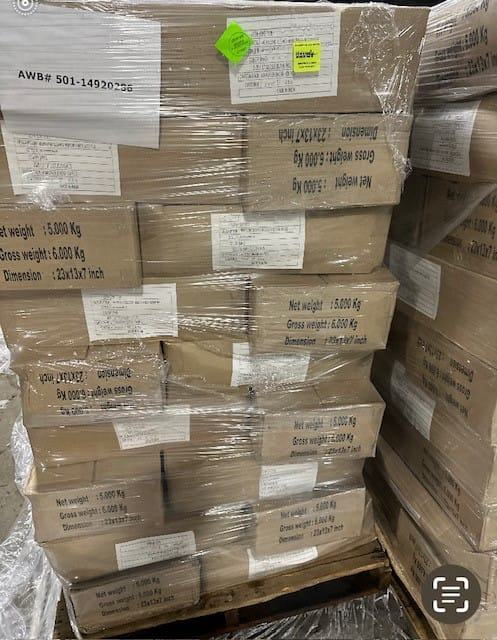box: (2, 105, 250, 219), (231, 80, 423, 212), (154, 191, 410, 278), (14, 391, 255, 483), (164, 331, 394, 397), (5, 289, 251, 350), (14, 349, 182, 425), (253, 261, 403, 346), (7, 213, 143, 299), (25, 520, 200, 577), (245, 490, 404, 550), (18, 474, 168, 536), (269, 389, 386, 459)
